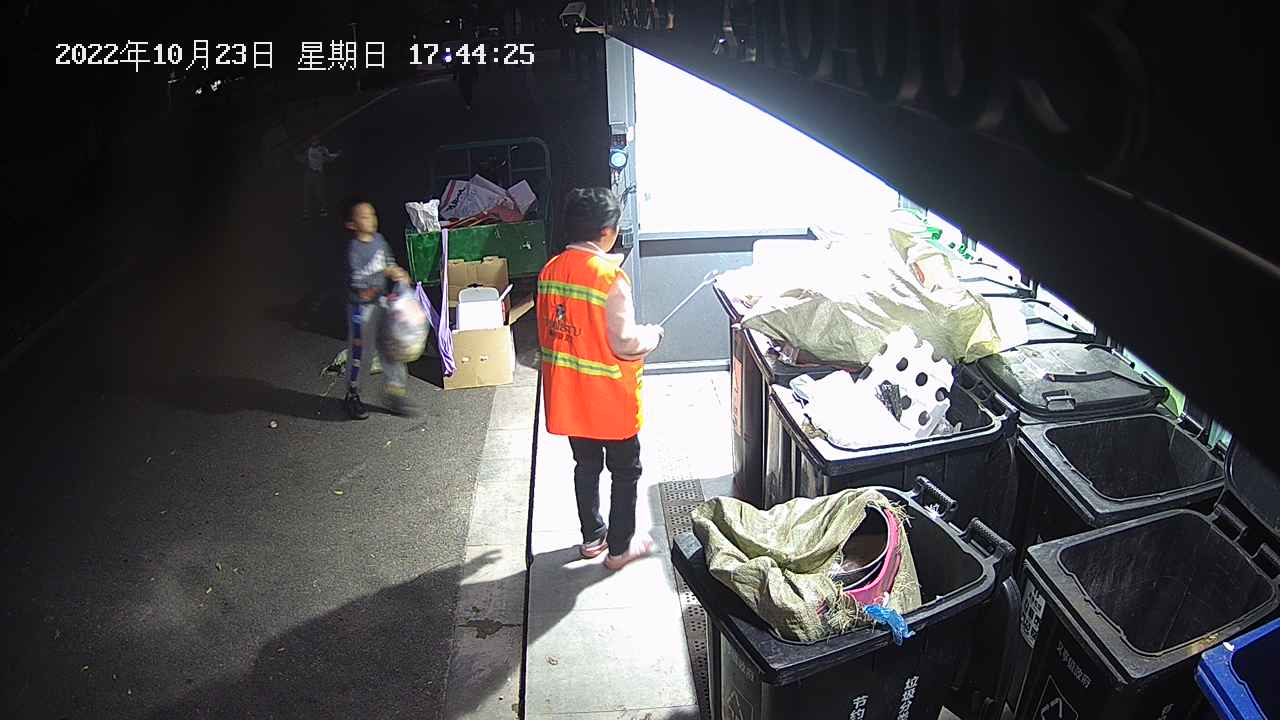garbage-bag: (377, 278, 431, 367)
person: (336, 195, 422, 419)
worker: (531, 185, 667, 570)
zhizhipin: (436, 253, 535, 391)
